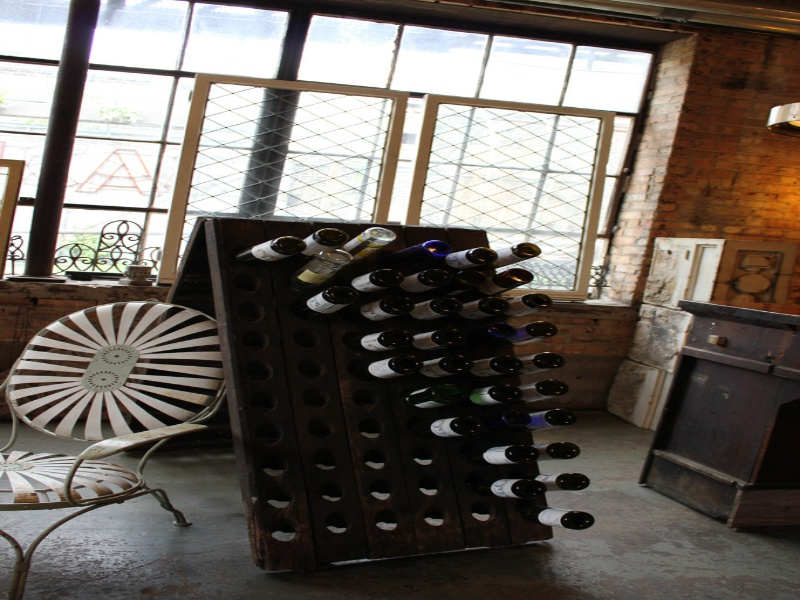wine: (209, 213, 607, 539)
